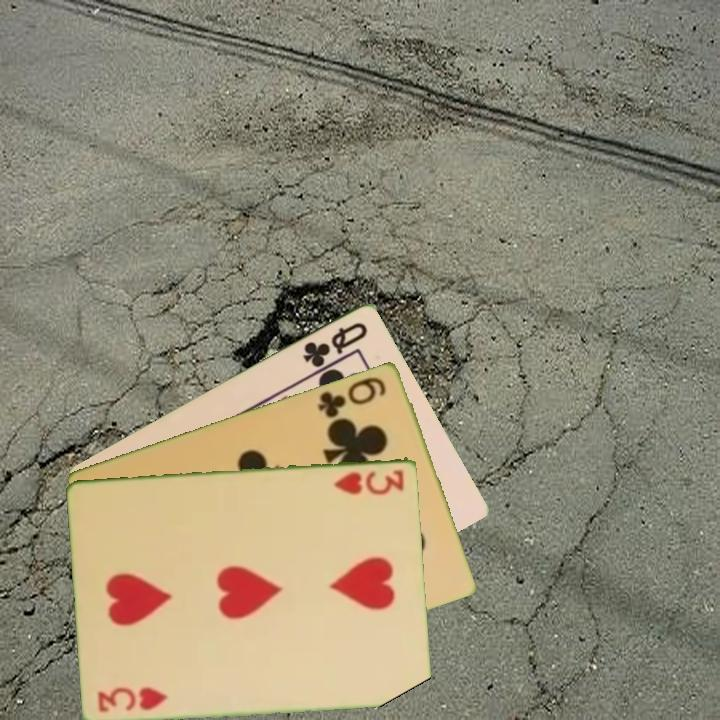3h: (330, 465, 408, 497), (94, 684, 171, 715)
6c: (314, 373, 389, 421)
Qc: (299, 318, 371, 370)
